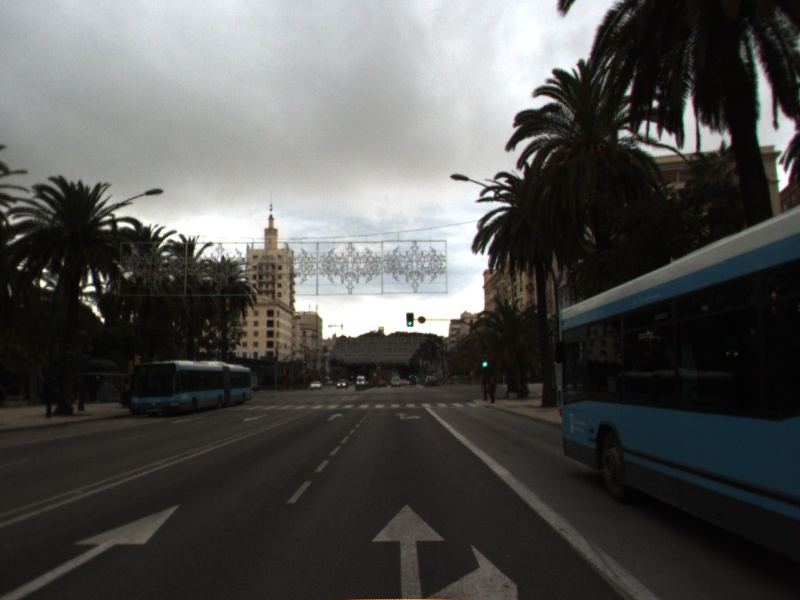STRAIGHT: (1, 499, 186, 600), (325, 411, 345, 422)
STRAIGHT_RIGHT: (369, 502, 520, 600), (392, 411, 423, 422)
